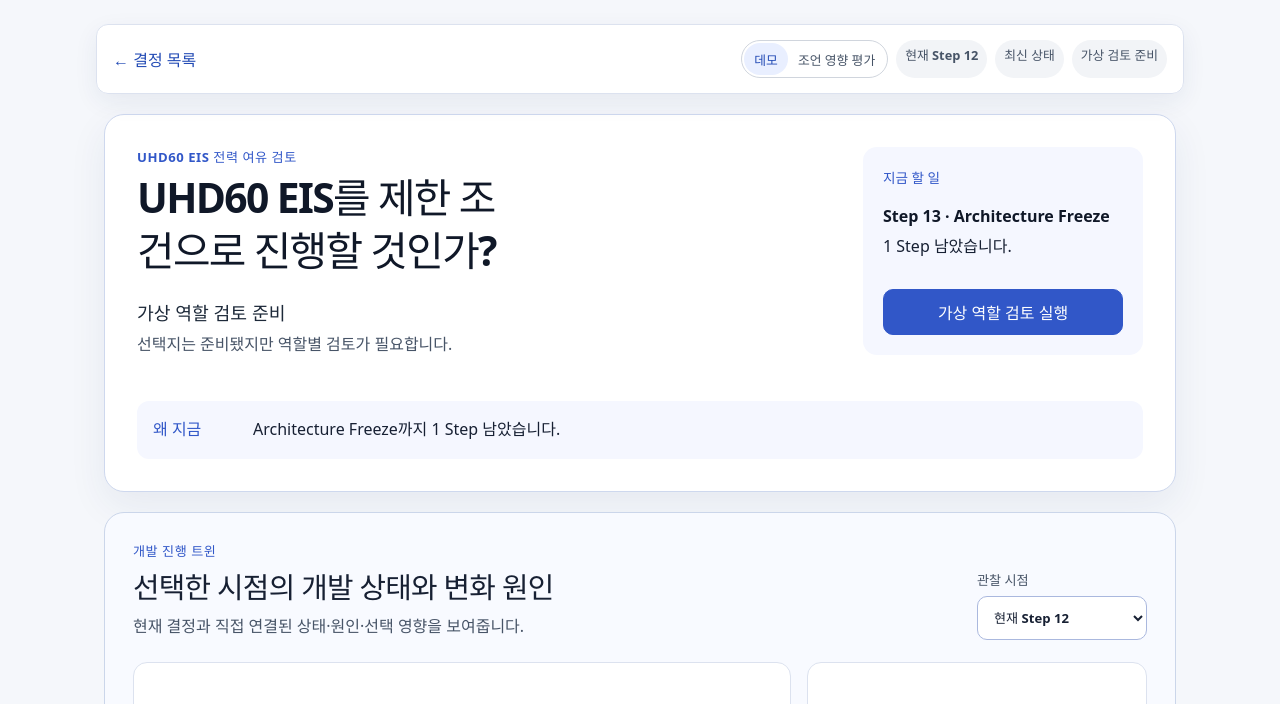
App › shows a stale-state recovery action after an aggregate conflict
This screenshot has width=1280, height=704.
Click the button "가상 역할 검토 실행".
click(1003, 312)  # box 883,289 -> 1123,335
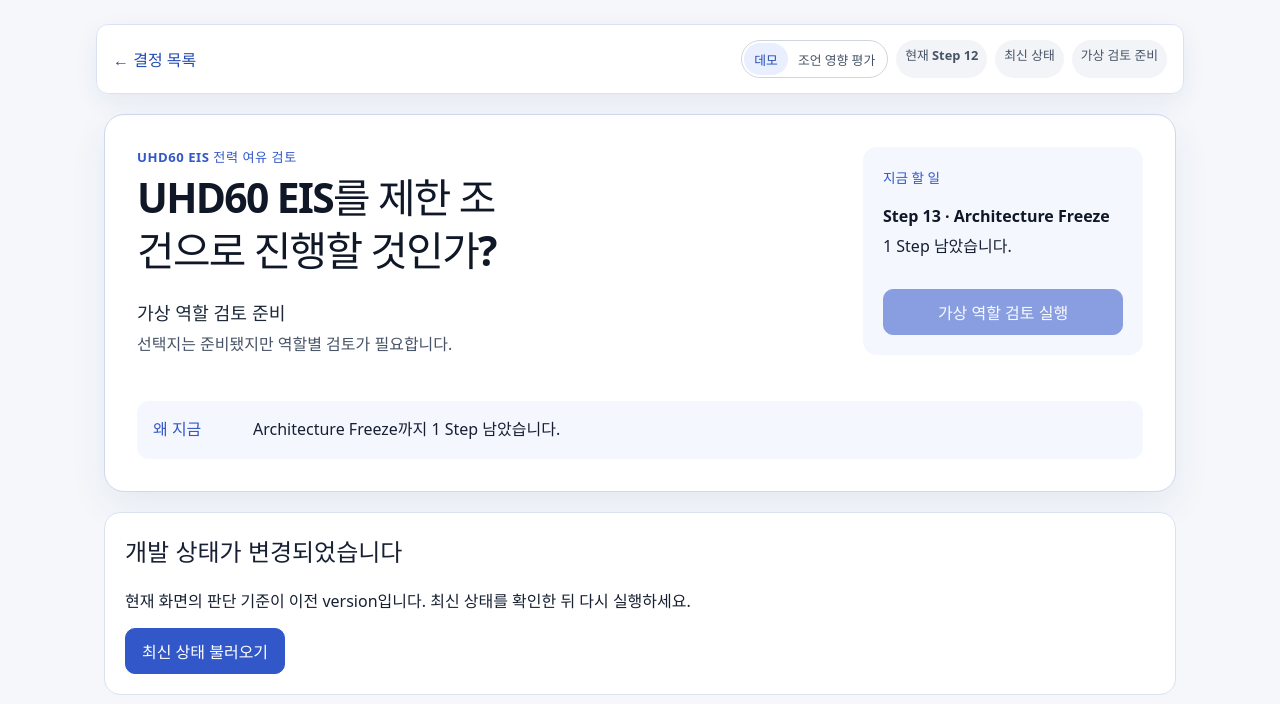
Expected: the heading "개발 상태가 변경되었습니다" is shown, 125,535 -> 402,568
Expected: the button "최신 상태 불러오기" is shown, 125,628 -> 285,674
